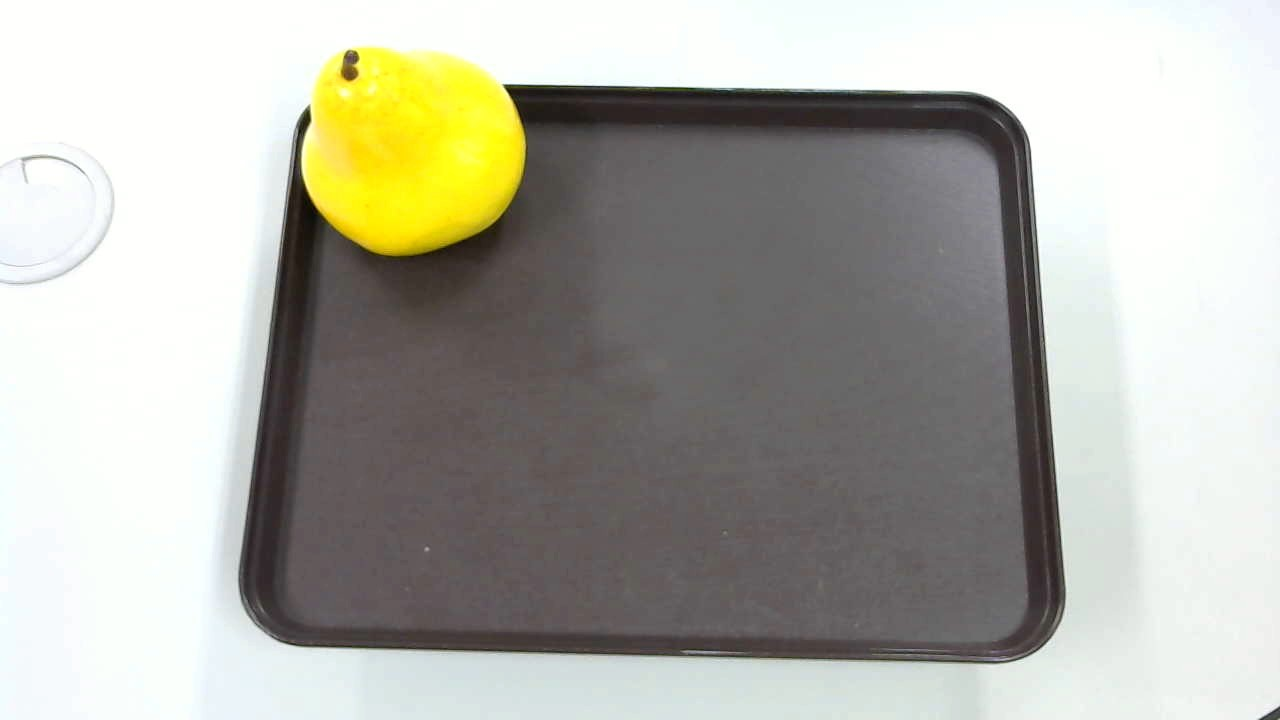yellow pear: (291, 35, 529, 261)
